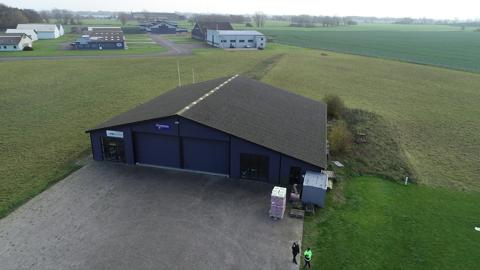RockwoolPallet: (269, 185, 288, 219)
